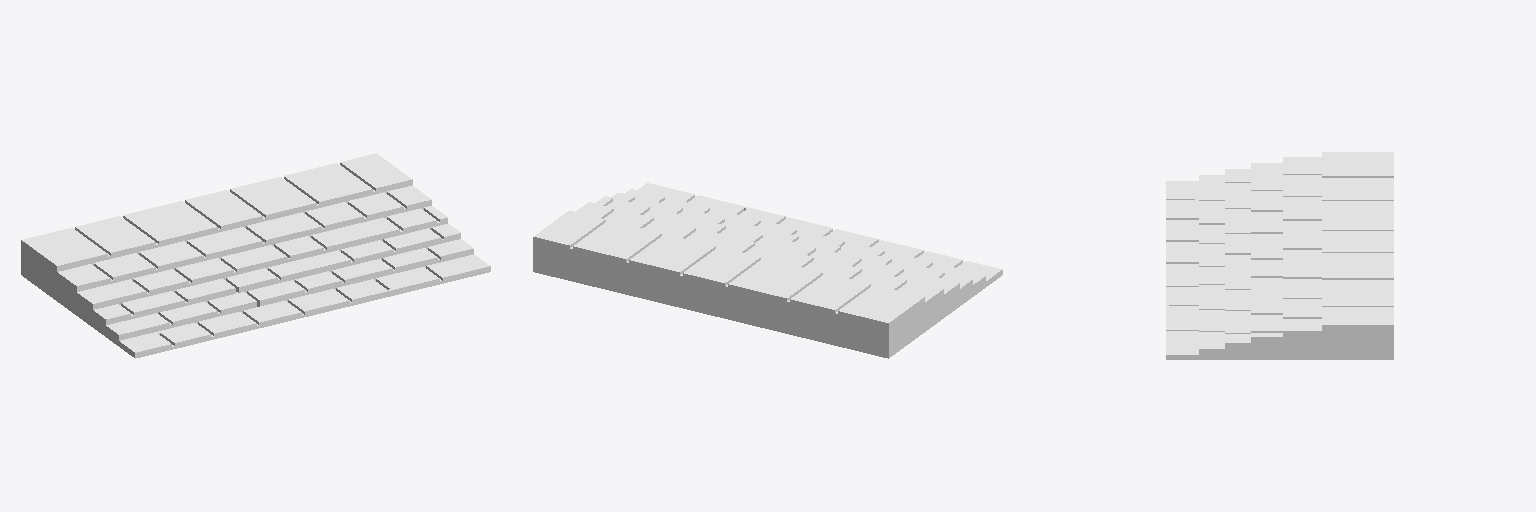
Rendered from schody.obj.
3 views of the same model, side by side, from view 1: azimuth 30°, elevation 25°; view 2: azimuth 150°, elevation 25°; view 3: azimuth 270°, elevation 25° (orthographic).
Parts seen in each view (by area): view 1: object 1; view 2: object 1; view 3: object 1.
Part boxes in pixels (left/top/right/bottom): object 1: left=21, top=153, right=490, bottom=358; object 1: left=533, top=183, right=1002, bottom=358; object 1: left=1166, top=152, right=1393, bottom=359.
Size of the model in its own units: 12.6 by 1.2 by 7.